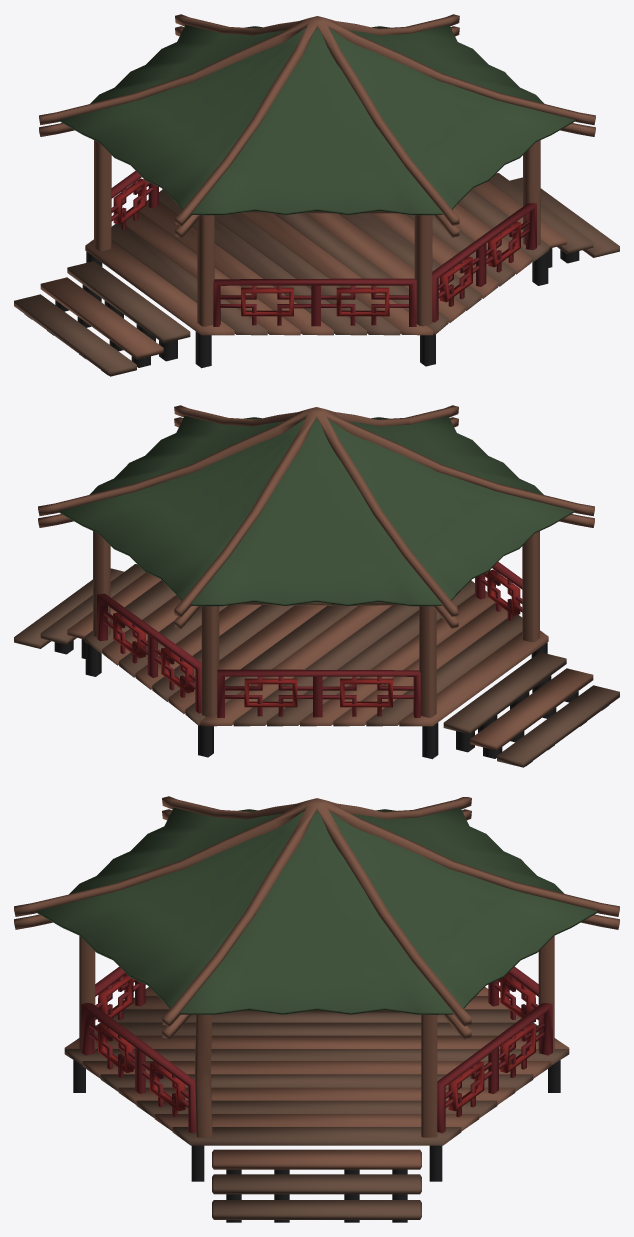
The model's file is Altana_1 Asia.fbx.
3 renders of one model, top to bottom at view 1: azimuth 30°, elevation 25°; view 2: azimuth 150°, elevation 25°; view 3: azimuth 270°, elevation 25°, orthographic. The views are drawn at different scales.
Parts seen in each view (by area): view 1: Altana_1; view 2: Altana_1; view 3: Altana_1.
Part boxes in pixels (x1,y1,x2,y2): Altana_1: [14, 14, 619, 376]; Altana_1: [14, 405, 619, 767]; Altana_1: [14, 796, 619, 1222].
Size of the model in its own units: 973 by 481 by 919.
